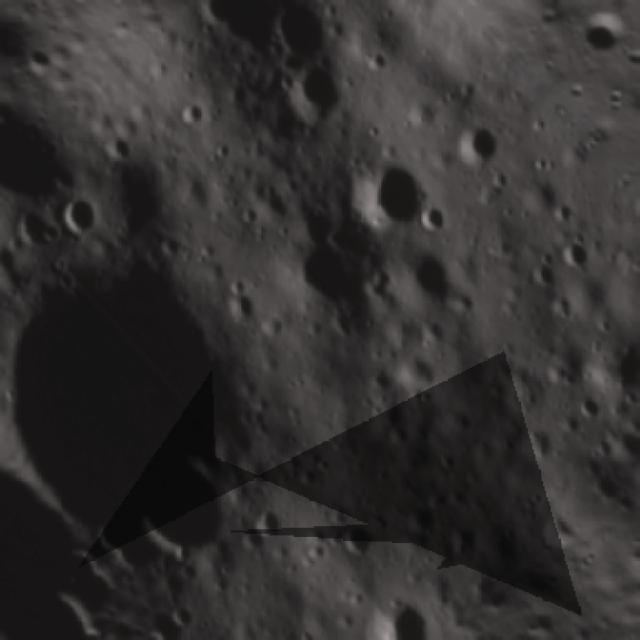crater: (0, 210, 349, 616), (268, 222, 392, 348), (267, 47, 371, 151), (345, 149, 446, 251), (386, 238, 479, 330), (257, 0, 354, 80), (441, 105, 522, 187), (358, 587, 447, 640), (587, 325, 640, 409), (507, 421, 571, 485), (330, 508, 392, 569), (6, 203, 66, 265), (51, 192, 109, 250), (551, 228, 606, 284), (168, 91, 222, 146), (570, 384, 619, 433), (541, 195, 585, 239)
